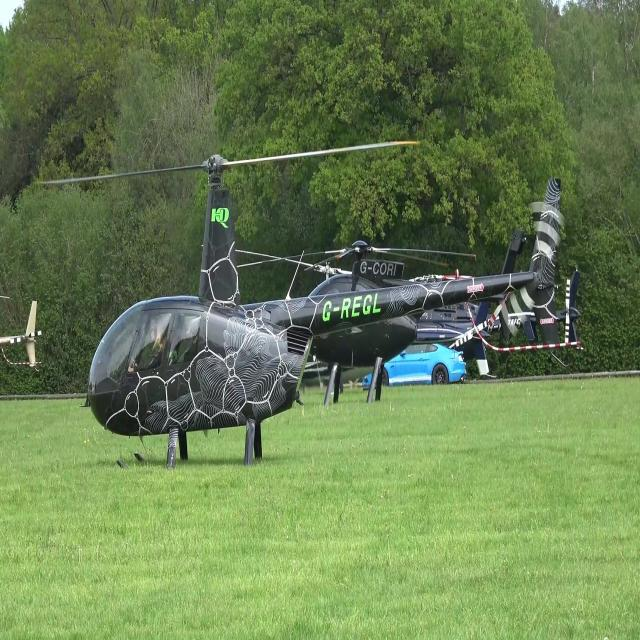CIV_HELO: (86, 152, 566, 484)
